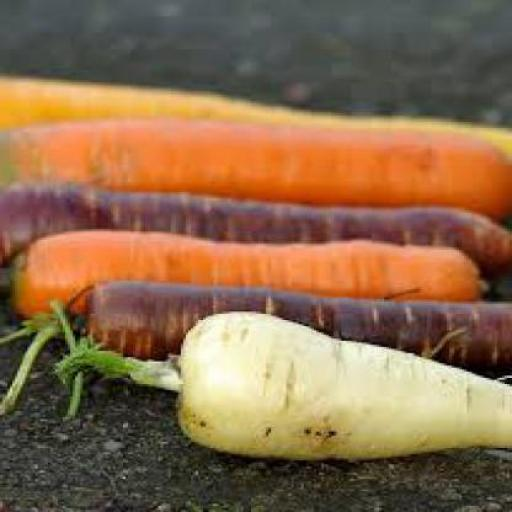biodegradable: (58, 302, 511, 456), (2, 278, 511, 410), (2, 114, 511, 222), (2, 177, 511, 282), (2, 235, 490, 329), (2, 76, 511, 158)
